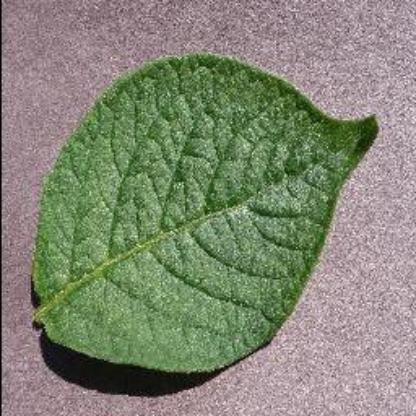Healthy-plant: (31, 20, 380, 378)
